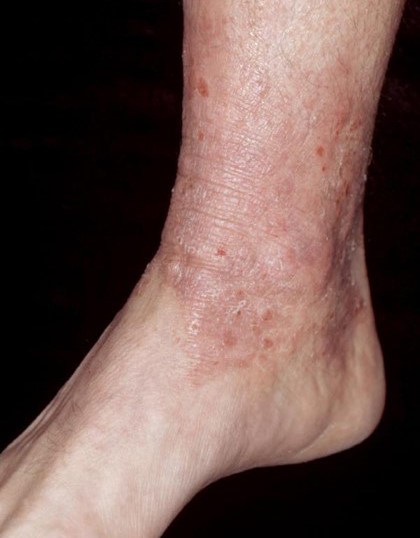Eczema: (186, 11, 367, 365)
